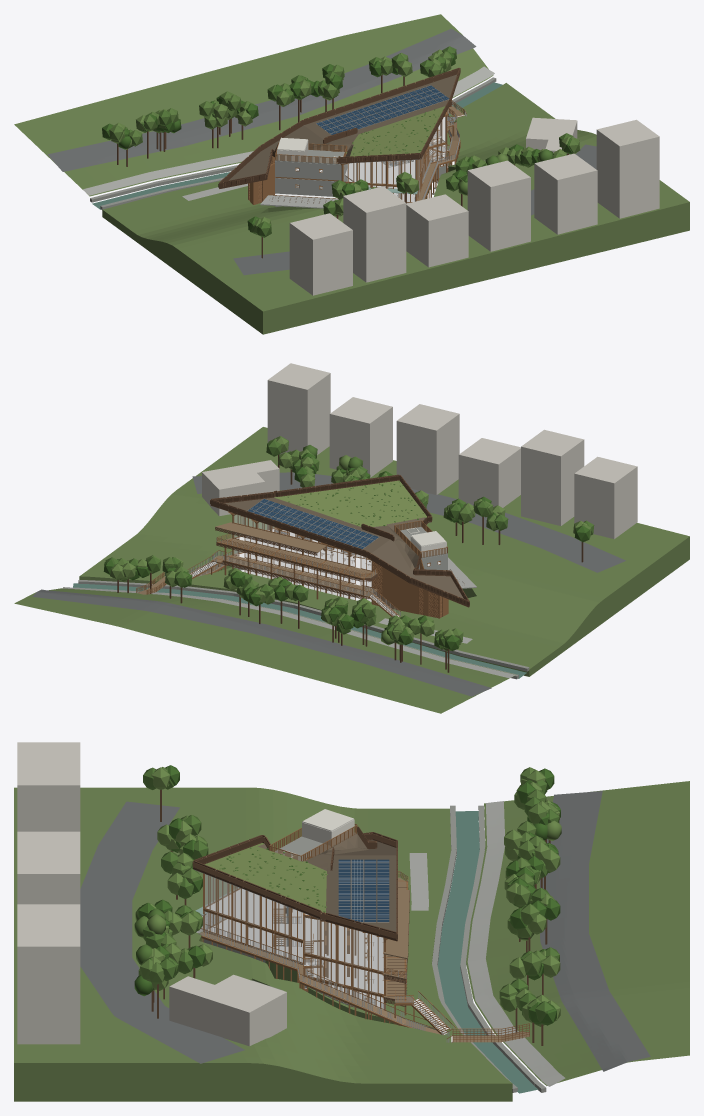
3 renders of one model, top to bottom at view 1: azimuth 30°, elevation 25°; view 2: azimuth 150°, elevation 25°; view 3: azimuth 270°, elevation 25°, orthographic. The views are drawn at different scales.
Visible parts, largest first — view 1: V4_08_地形與周邊, V5_02_屋面, V4_06_核心與隔間, V5_04_外殼, 02_屋頂, V5_01_樓板, V5_05_平台與外梯, V5_03_梁柱; view 2: V4_08_地形與周邊, V5_02_屋面, 05_陽台遮棚, 02_屋頂, V5_04_外殼, 04_門窗, V5_01_樓板, V5_05_平台與外梯, V4_06_核心與隔間, V5_03_梁柱, 03_木構; view 3: V4_08_地形與周邊, V5_02_屋面, V5_04_外殼, V5_01_樓板, V5_05_平台與外梯, 02_屋頂, V5_03_梁柱, V4_06_核心與隔間, 05_陽台遮棚, V5_10_室內樓梯.
Boxes of the visible parts, x1,y1,x2,y2 form: V4_08_地形與周邊: (14, 14, 689, 334); V5_02_屋面: (218, 68, 460, 188); V4_06_核心與隔間: (275, 137, 347, 206); V5_04_外殼: (249, 112, 446, 204); 02_屋頂: (316, 85, 449, 155); V5_01_樓板: (261, 117, 445, 201); V5_05_平台與外梯: (414, 109, 466, 201); V5_03_梁柱: (248, 111, 447, 204); V4_08_地形與周邊: (14, 363, 689, 713); V5_02_屋面: (210, 474, 469, 607); 05_陽台遮棚: (215, 522, 377, 598); 02_屋頂: (247, 481, 424, 549); V5_04_外殼: (234, 515, 448, 618); 04_門窗: (233, 513, 371, 601); V5_01_樓板: (234, 528, 447, 601); V5_05_平台與外梯: (165, 550, 400, 616); V4_06_核心與隔間: (394, 520, 447, 570); V5_03_梁柱: (217, 513, 448, 618); 03_木構: (228, 511, 373, 604); V4_08_地形與周邊: (14, 742, 689, 1101); V5_02_屋面: (192, 826, 397, 941); V5_04_外殼: (203, 856, 383, 1008); V5_01_樓板: (206, 889, 383, 1009); V5_05_平台與外梯: (198, 924, 455, 1042); 02_屋頂: (219, 847, 389, 936); V5_03_梁柱: (203, 873, 408, 1015); V4_06_核心與隔間: (269, 809, 357, 860); 05_陽台遮棚: (383, 871, 409, 1006); V5_10_室內樓梯: (273, 901, 323, 991).
Size of the model in its own units: 97.15 by 21.5 by 97.
